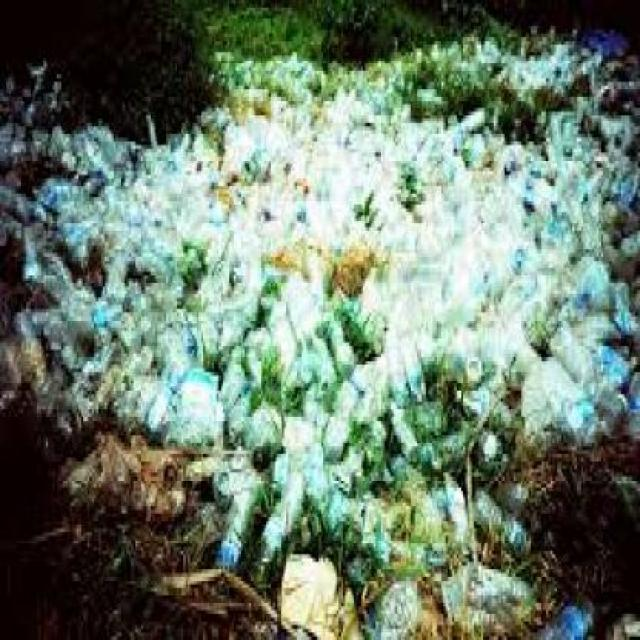garbage: (42, 119, 612, 569)
